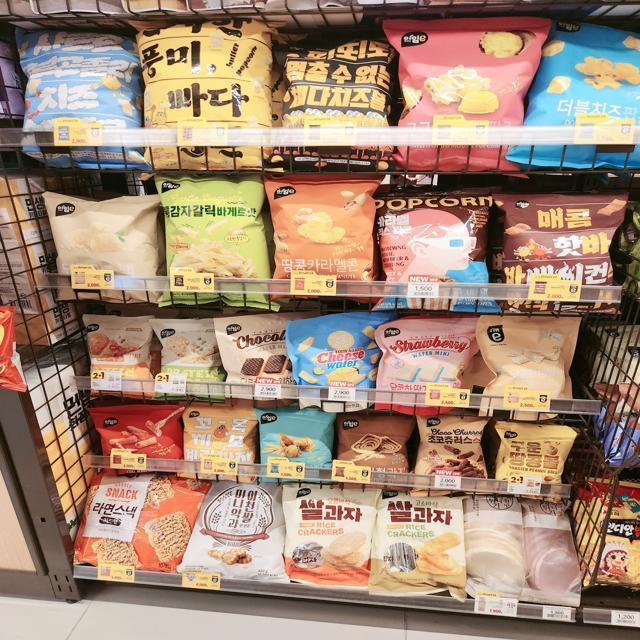product: (387, 21, 527, 175), (138, 19, 279, 171), (363, 187, 507, 320), (269, 162, 395, 311), (153, 165, 283, 308), (18, 28, 147, 171), (522, 16, 640, 169), (491, 187, 627, 319), (281, 26, 392, 166), (42, 189, 169, 306), (475, 312, 584, 423), (282, 309, 396, 411), (371, 482, 462, 603), (280, 481, 369, 592), (92, 467, 185, 573), (190, 476, 283, 581), (374, 316, 474, 411), (213, 314, 297, 407), (77, 311, 158, 393), (154, 319, 230, 405), (415, 411, 491, 492), (498, 415, 568, 500), (259, 406, 331, 480), (333, 409, 409, 479), (187, 403, 253, 481), (97, 411, 185, 463), (596, 520, 640, 590)
